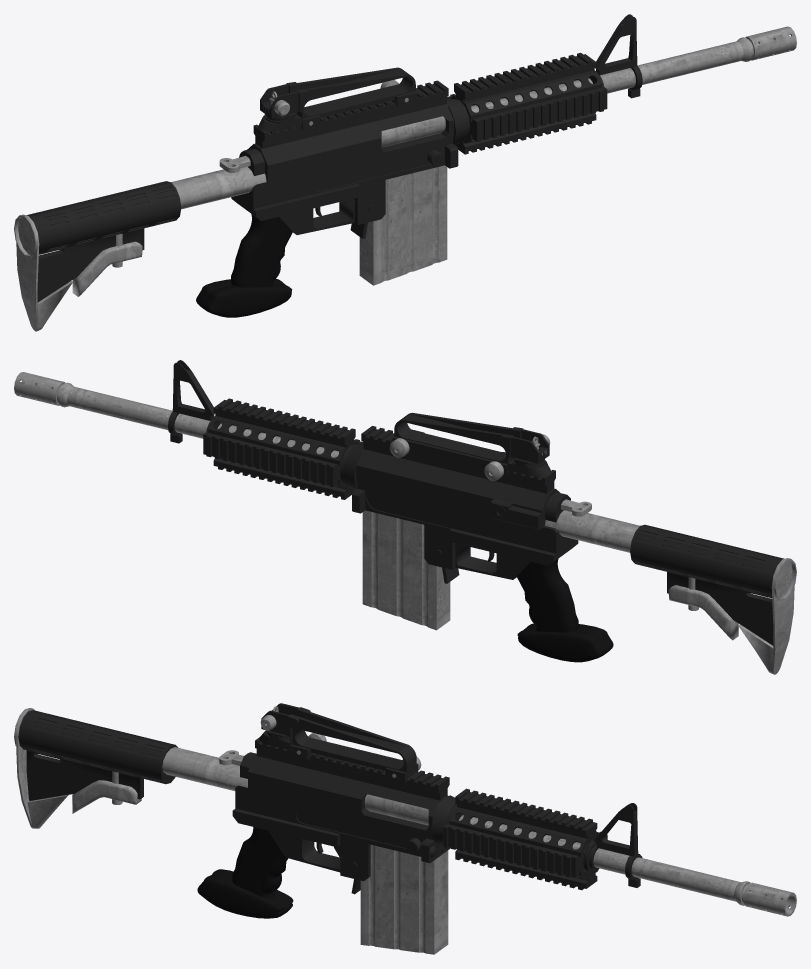
File: Assault_Rifle_1.FBX
The picture shows the model from 3 angles, top to bottom: view 1: azimuth 30°, elevation 25°; view 2: azimuth 150°, elevation 25°; view 3: azimuth 330°, elevation 25°; orthographic projection.
Visible parts, largest first — view 1: Group_017, Group_012, Group_008, Group_014, Group_015, Group_006, Group_005, Group_002, Group_010, Group_003, Group_009; view 2: Group_017, Group_008, Group_012, Group_014, Group_015, Group_006, Group_002, Group_005, Group_010, Group_003; view 3: Group_017, Group_012, Group_008, Group_014, Group_015, Group_006, Group_005, Group_002, Group_010, Group_003, Group_009.
Part boxes in pixels (box(x1,y1,x2,y2)): Group_017: box(447, 14, 796, 154); Group_012: box(14, 181, 181, 331); Group_008: box(219, 104, 458, 211); Group_014: box(359, 165, 447, 285); Group_015: box(258, 67, 417, 131); Group_006: box(196, 214, 292, 317); Group_005: box(253, 80, 448, 148); Group_002: box(231, 183, 360, 234); Group_010: box(171, 166, 266, 209); Group_003: box(339, 180, 385, 238); Group_009: box(381, 116, 445, 147); Group_017: box(14, 360, 363, 499); Group_008: box(352, 449, 591, 556); Group_012: box(630, 524, 796, 674); Group_014: box(362, 510, 450, 630); Group_015: box(389, 412, 551, 480); Group_006: box(517, 559, 613, 662); Group_002: box(449, 528, 578, 579); Group_005: box(361, 426, 555, 493); Group_010: box(545, 510, 639, 552); Group_003: box(424, 525, 470, 583); Group_017: box(431, 788, 796, 916); Group_012: box(14, 708, 177, 828); Group_008: box(219, 750, 450, 863); Group_014: box(360, 844, 448, 954); Group_015: box(259, 703, 421, 783); Group_006: box(197, 827, 293, 918); Group_005: box(255, 737, 449, 800); Group_002: box(232, 808, 340, 872); Group_010: box(162, 747, 247, 790); Group_003: box(340, 837, 370, 894); Group_009: box(364, 794, 428, 825).
Size of the model in its own units: 1815 by 142 by 480.
Materials: 4 (1 with a texture image).
